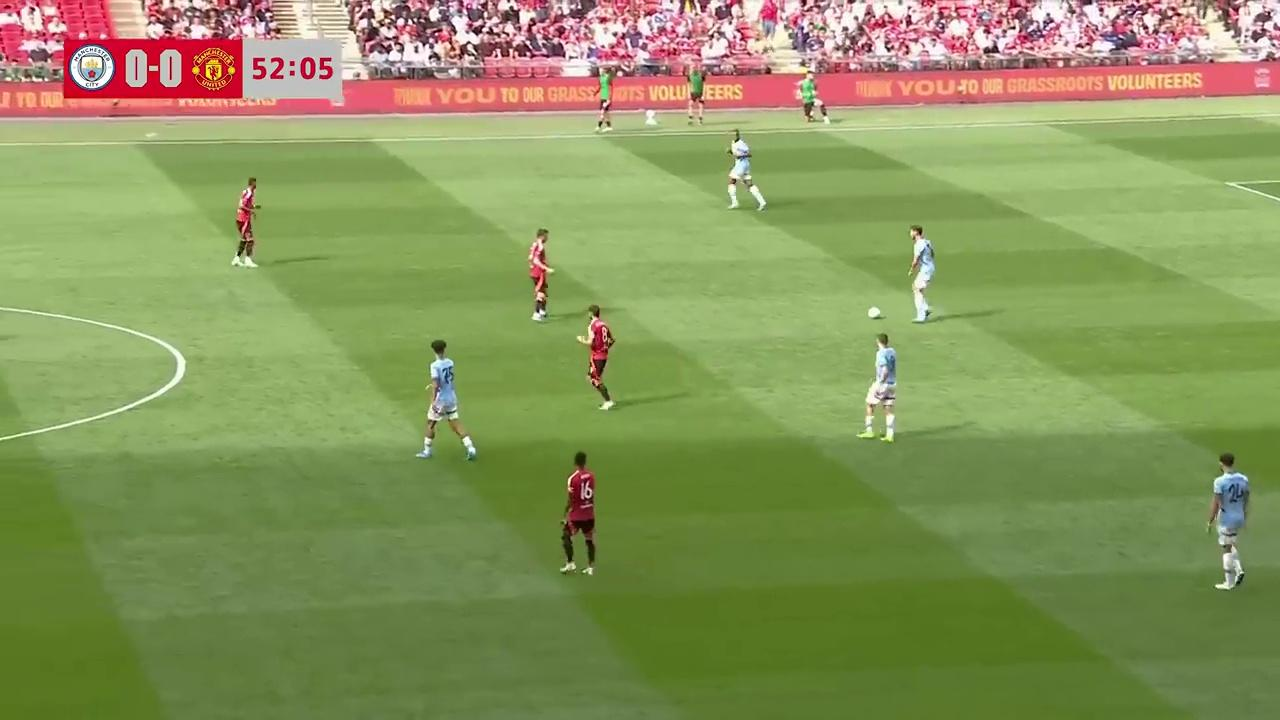ball: (865, 303, 882, 320)
player: (414, 340, 477, 461), (1206, 452, 1250, 590), (560, 451, 596, 576), (578, 305, 616, 409), (861, 333, 897, 441), (727, 139, 766, 211), (907, 225, 935, 322), (231, 177, 260, 269), (527, 228, 552, 322)
